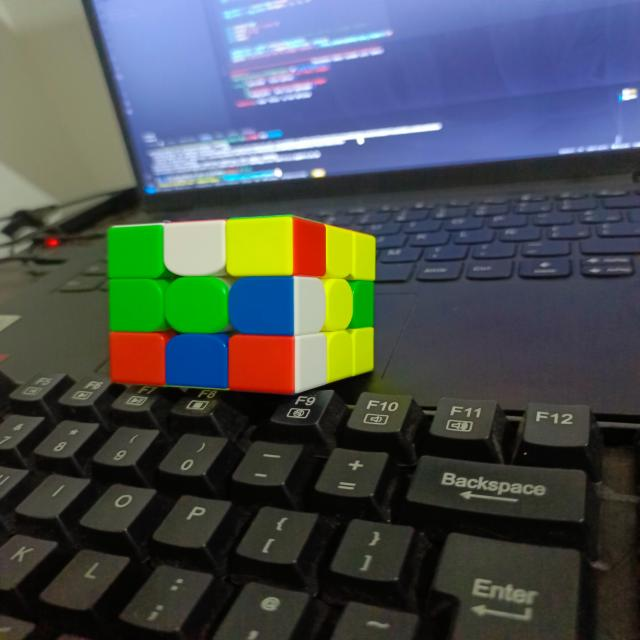rubik: (104, 214, 378, 394)
